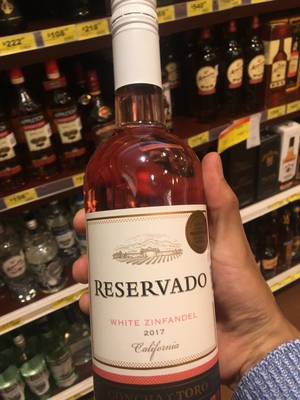reservado white zinfandel: (80, 12, 226, 397)
